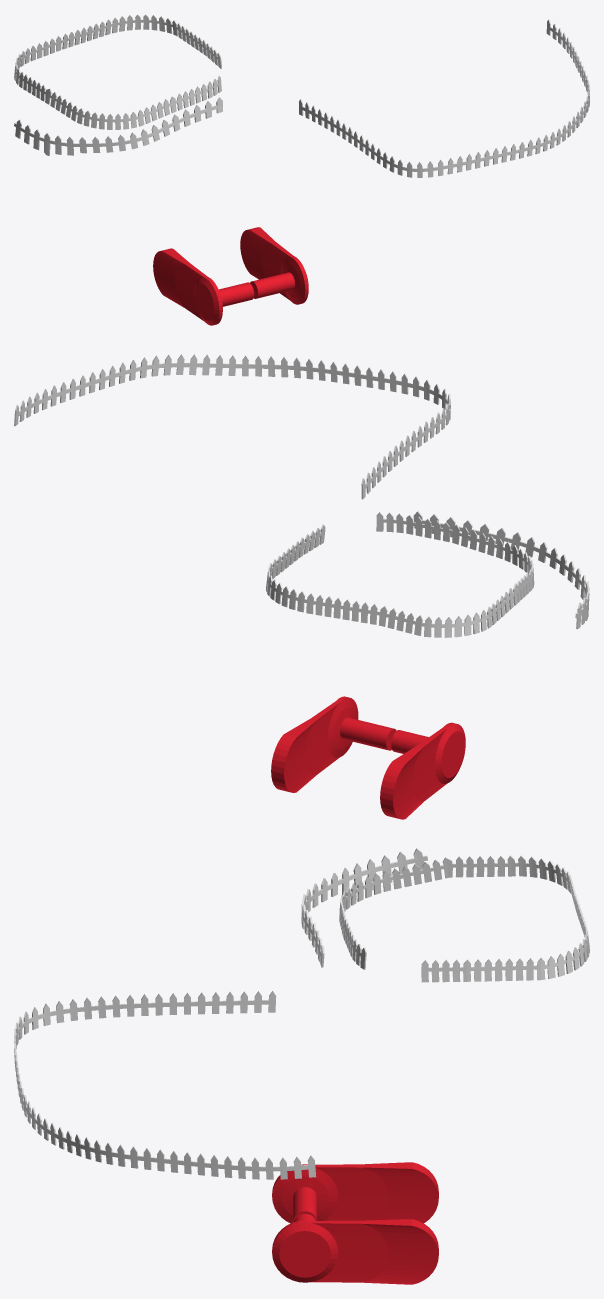
File: other.fbx
3 renders of one model, top to bottom at view 1: azimuth 30°, elevation 25°; view 2: azimuth 150°, elevation 25°; view 3: azimuth 270°, elevation 25°, orthographic. The views are drawn at different scales.
Visible parts, largest first — view 1: 실린더, 큐브.007, 큐브.006, 큐브.005; view 2: 실린더, 큐브.007, 큐브.006, 큐브.005; view 3: 실린더, 큐브.006, 큐브.007, 큐브.005.
Boxes of the visible parts, x1,y1,x2,y2 form: 실린더: [153, 227, 308, 325]; 큐브.007: [14, 14, 221, 129]; 큐브.006: [299, 19, 589, 177]; 큐브.005: [14, 97, 222, 155]; 실린더: [271, 696, 465, 819]; 큐브.007: [266, 512, 534, 637]; 큐브.006: [14, 354, 450, 499]; 큐브.005: [413, 511, 589, 629]; 실린더: [272, 1162, 438, 1284]; 큐브.006: [14, 991, 316, 1179]; 큐브.007: [339, 855, 589, 982]; 큐브.005: [301, 848, 427, 967].
Bounding box in the file's own units: 1640 × 719 × 1239.
